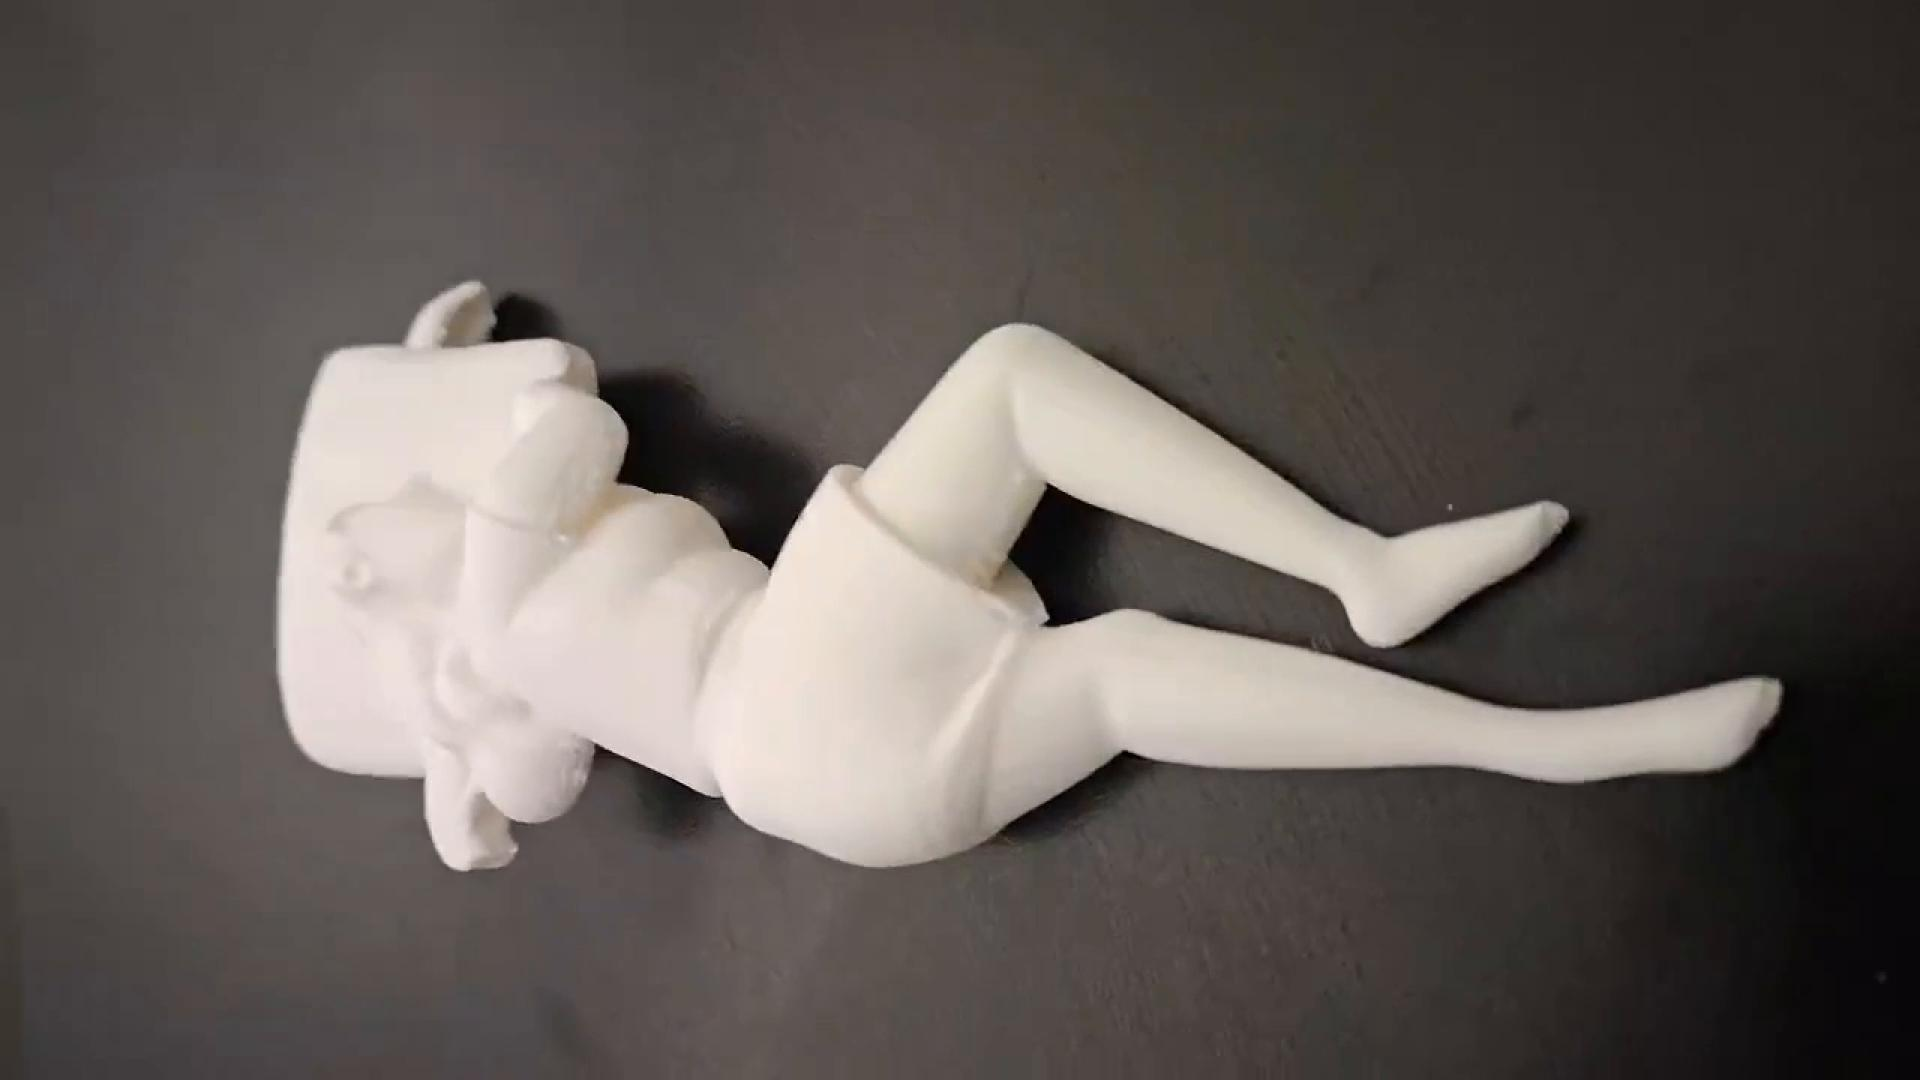Good-style: (273, 277, 1780, 874)
